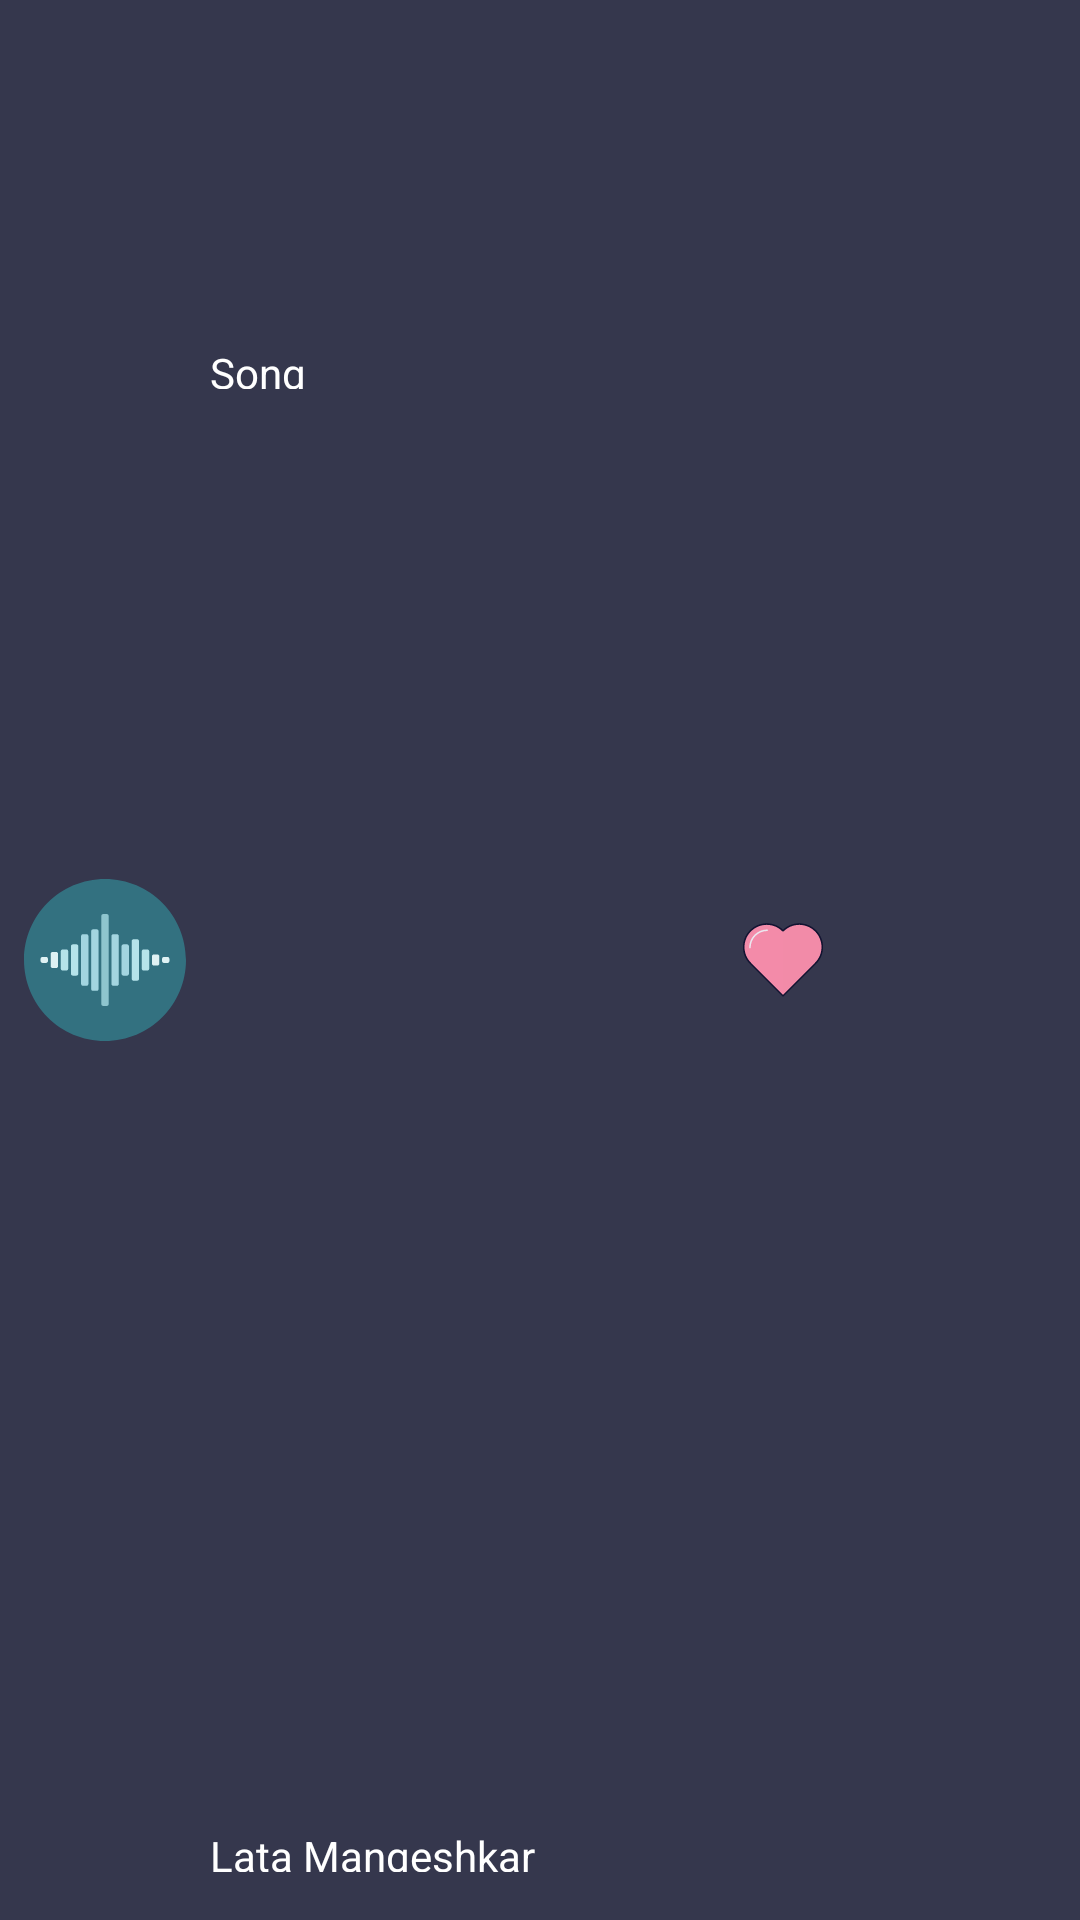

Named icons in this screenshot (1080×1920) and their bounding boxes, detection(x1, y1, x2, y2):
heart: detection(743, 923, 823, 996)
music: detection(24, 879, 186, 1041)
